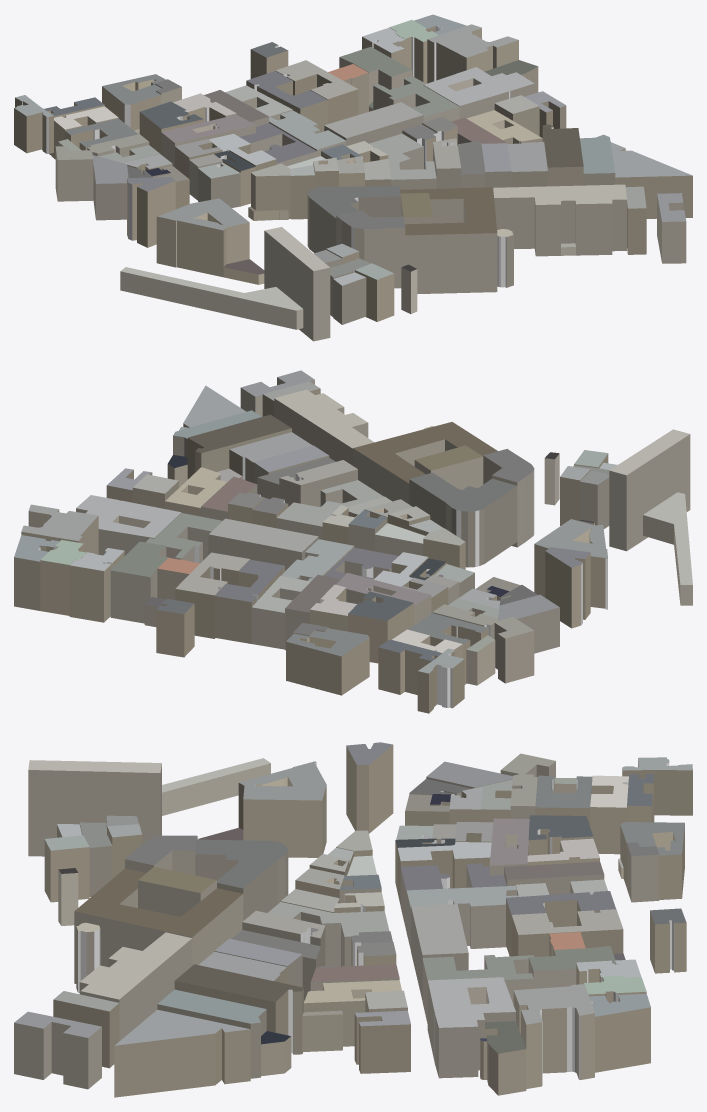
The picture shows the model from 3 angles, top to bottom: view 1: azimuth 30°, elevation 25°; view 2: azimuth 150°, elevation 25°; view 3: azimuth 270°, elevation 25°; orthographic projection. The views are drawn at different scales.
Visible parts, largest first — view 1: tuile; view 2: tuile; view 3: tuile.
Part boxes in pixels (x1=…): tuile: x1=14, y1=14, x2=692, y2=341; tuile: x1=14, y1=370, x2=692, y2=713; tuile: x1=14, y1=742, x2=692, y2=1097.
Size of the model in its own units: 293 by 45.57 by 273.
